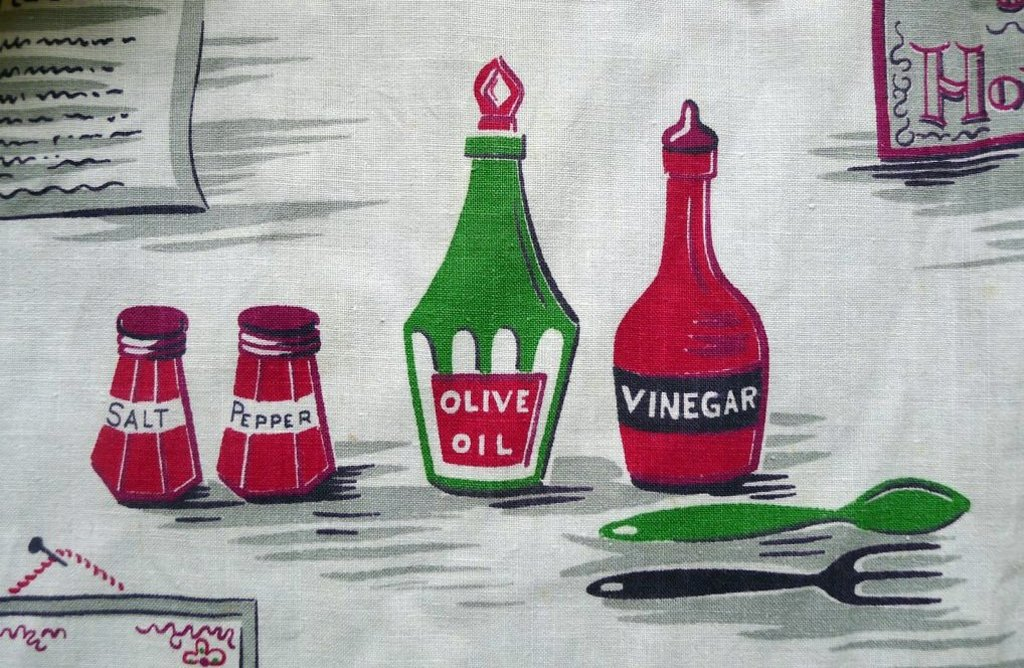can: (405, 55, 579, 496), (614, 99, 769, 495)
